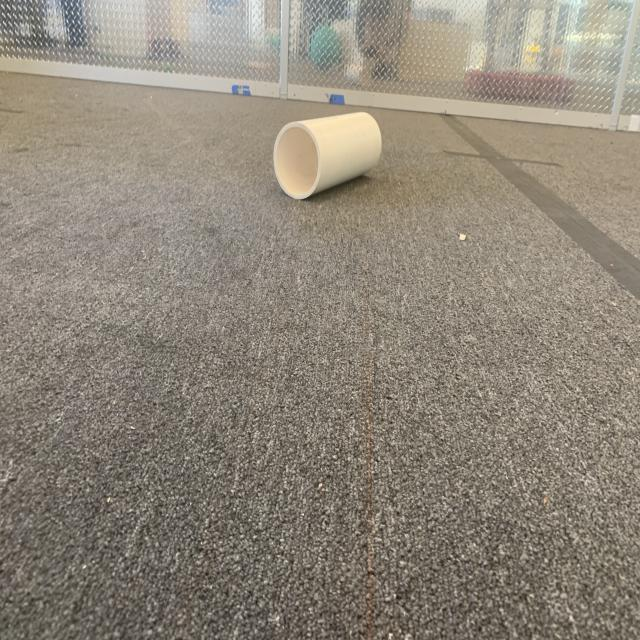Coral: (272, 110, 382, 200)
